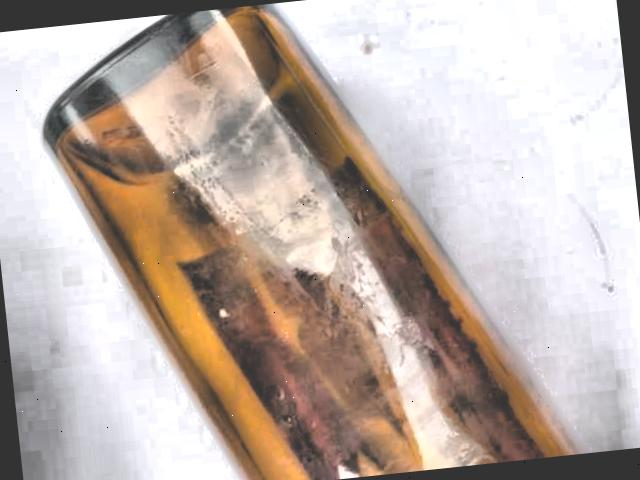Bottles: (24, 0, 603, 480)
